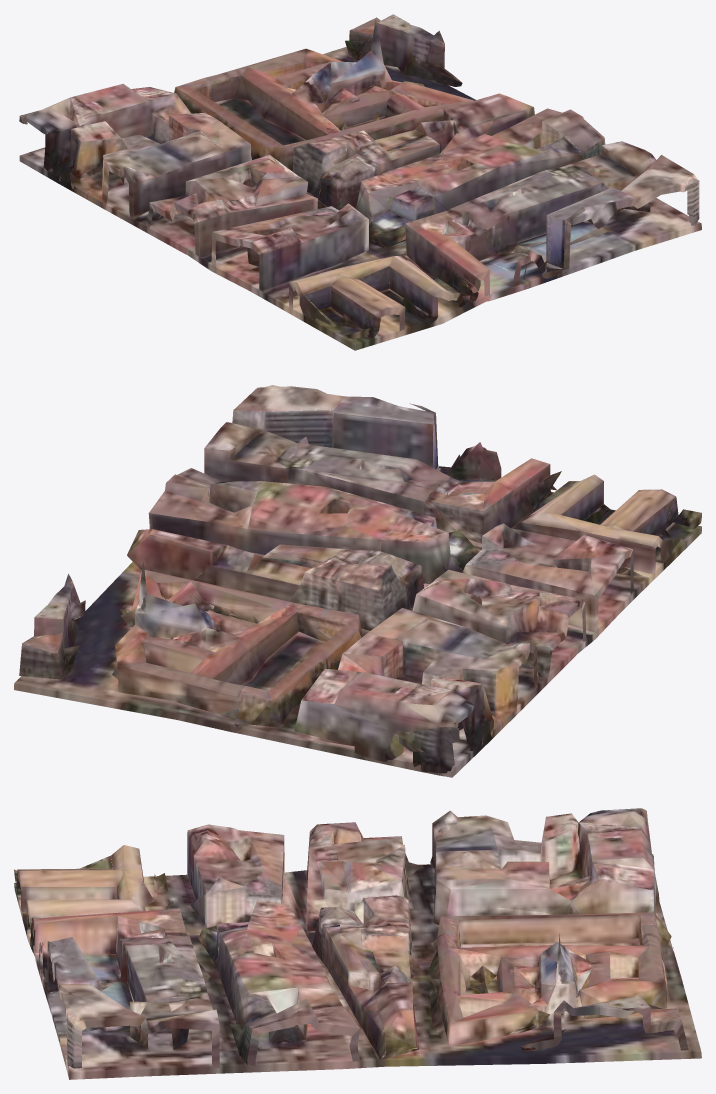
3 views of the same model, one above another, from view 1: azimuth 30°, elevation 25°; view 2: azimuth 150°, elevation 25°; view 3: azimuth 270°, elevation 25° (orthographic). The views are drawn at different scales.
Visible parts, largest first — view 1: Mesh_0; view 2: Mesh_0; view 3: Mesh_0.
Boxes of the visible parts, x1=… form: Mesh_0: x1=19, y1=14, x2=701, y2=350; Mesh_0: x1=14, y1=385, x2=701, y2=777; Mesh_0: x1=14, y1=808, x2=701, y2=1079.
Size of the model in its own units: 270 by 57.15 by 330.
Materials: 2 (2 with a texture image).
